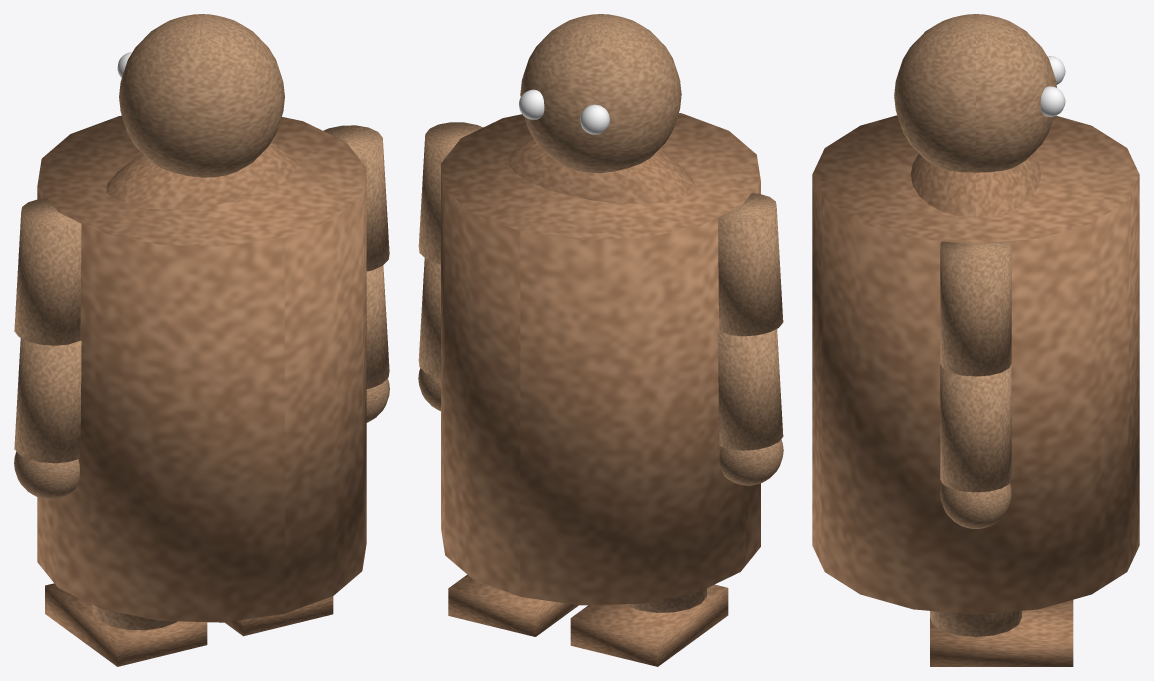
File: necromancer.glb
3 renders of one model, left to right at view 1: azimuth 30°, elevation 25°; view 2: azimuth 150°, elevation 25°; view 3: azimuth 270°, elevation 25°, orthographic. The views are drawn at different scales.
Visible parts, largest first — view 1: Robe, Head, UpperArmL, ForearmL, Torso, FootL, UpperArmR, ForearmR, HandL, FootR, ShinL, HandR; view 2: Robe, Head, UpperArmL, ForearmL, FootL, Torso, FootR, UpperArmR, ForearmR, HandL, ShinL, Eye (+2 smaller); view 3: Robe, Head, UpperArmR, ForearmR, FootR, Torso, HandR, ShinR, Eye.001.
Boxes of the visible parts, bbox=[...] form: Robe: bbox=[37, 115, 366, 622]; Head: bbox=[119, 14, 284, 177]; UpperArmL: bbox=[14, 198, 81, 345]; ForearmL: bbox=[14, 338, 81, 463]; Torso: bbox=[106, 142, 297, 209]; FootL: bbox=[45, 583, 207, 666]; UpperArmR: bbox=[323, 125, 389, 271]; ForearmR: bbox=[366, 265, 389, 388]; HandL: bbox=[14, 452, 79, 499]; FootR: bbox=[225, 596, 333, 636]; ShinL: bbox=[92, 605, 177, 630]; HandR: bbox=[366, 378, 389, 422]; Robe: bbox=[441, 113, 760, 605]; Head: bbox=[520, 14, 681, 172]; UpperArmL: bbox=[718, 193, 783, 336]; ForearmL: bbox=[718, 329, 783, 450]; FootL: bbox=[570, 584, 728, 666]; Torso: bbox=[508, 139, 693, 203]; FootR: bbox=[448, 574, 578, 636]; UpperArmR: bbox=[418, 122, 482, 263]; ForearmR: bbox=[418, 258, 440, 378]; HandL: bbox=[719, 439, 783, 485]; ShinL: bbox=[625, 588, 706, 612]; Eye: bbox=[580, 104, 609, 134]; Robe: bbox=[812, 115, 1139, 614]; Head: bbox=[894, 14, 1056, 172]; UpperArmR: bbox=[940, 241, 1011, 376]; ForearmR: bbox=[940, 364, 1011, 492]; FootR: bbox=[930, 600, 1073, 666]; Torso: bbox=[910, 154, 1041, 217]; HandR: bbox=[940, 483, 1011, 528]; ShinR: bbox=[930, 611, 1021, 636]; Eye.001: bbox=[1040, 86, 1065, 116].
Size of the model in its own units: 0.6367 by 1 by 0.5.
3 materials, 2 textured.
